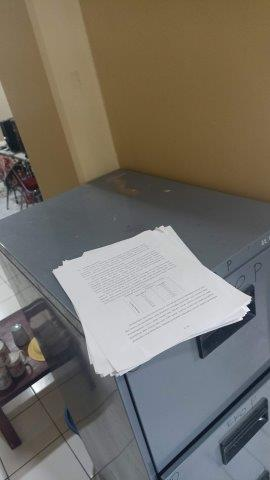kertas: (55, 227, 253, 371)
